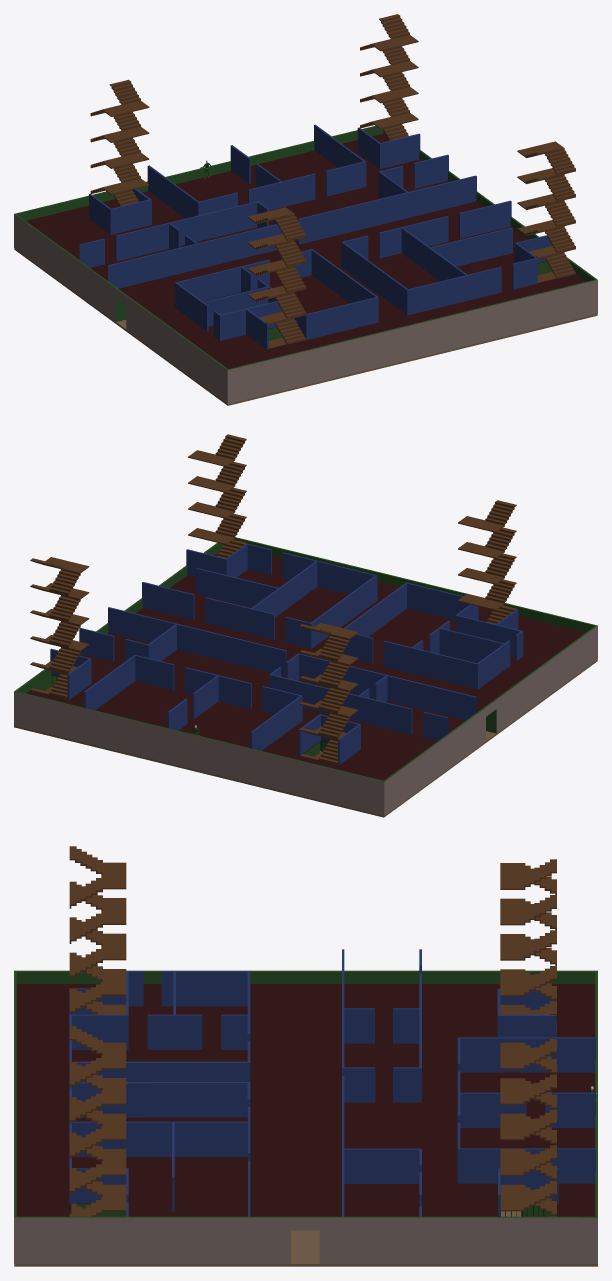
File: DOM.-v-02.fbx
3 views of the same model, one above another, from view 1: azimuth 30°, elevation 25°; view 2: azimuth 150°, elevation 25°; view 3: azimuth 270°, elevation 25° (orthographic). The views are drawn at different scales.
Parts seen in each view (by area): view 1: STENA-2, STENA-1, POL-2, LESTNIZA, POL-1; view 2: STENA-2, POL-2, STENA-1, LESTNIZA, POL-1; view 3: POL-2, STENA-2, STENA-1, LESTNIZA, POL-1.
Boxes of the visible parts, x1=… form: STENA-2: x1=79, y1=124, x2=552, y2=349; STENA-1: x1=14, y1=125, x2=597, y2=404; POL-2: x1=26, y1=133, x2=585, y2=368; LESTNIZA: x1=90, y1=14, x2=575, y2=348; POL-1: x1=14, y1=248, x2=597, y2=405; STENA-2: x1=50, y1=543, x2=523, y2=764; POL-2: x1=26, y1=552, x2=585, y2=780; STENA-1: x1=14, y1=537, x2=597, y2=815; LESTNIZA: x1=30, y1=434, x2=516, y2=764; POL-1: x1=14, y1=660, x2=597, y2=817; POL-2: x1=16, y1=984, x2=595, y2=1216; STENA-2: x1=69, y1=949, x2=595, y2=1217; STENA-1: x1=14, y1=970, x2=597, y2=1264; LESTNIZA: x1=69, y1=846, x2=556, y2=1216; POL-1: x1=14, y1=1211, x2=597, y2=1266.
Size of the model in its own units: 3884 by 1569 by 3879.
